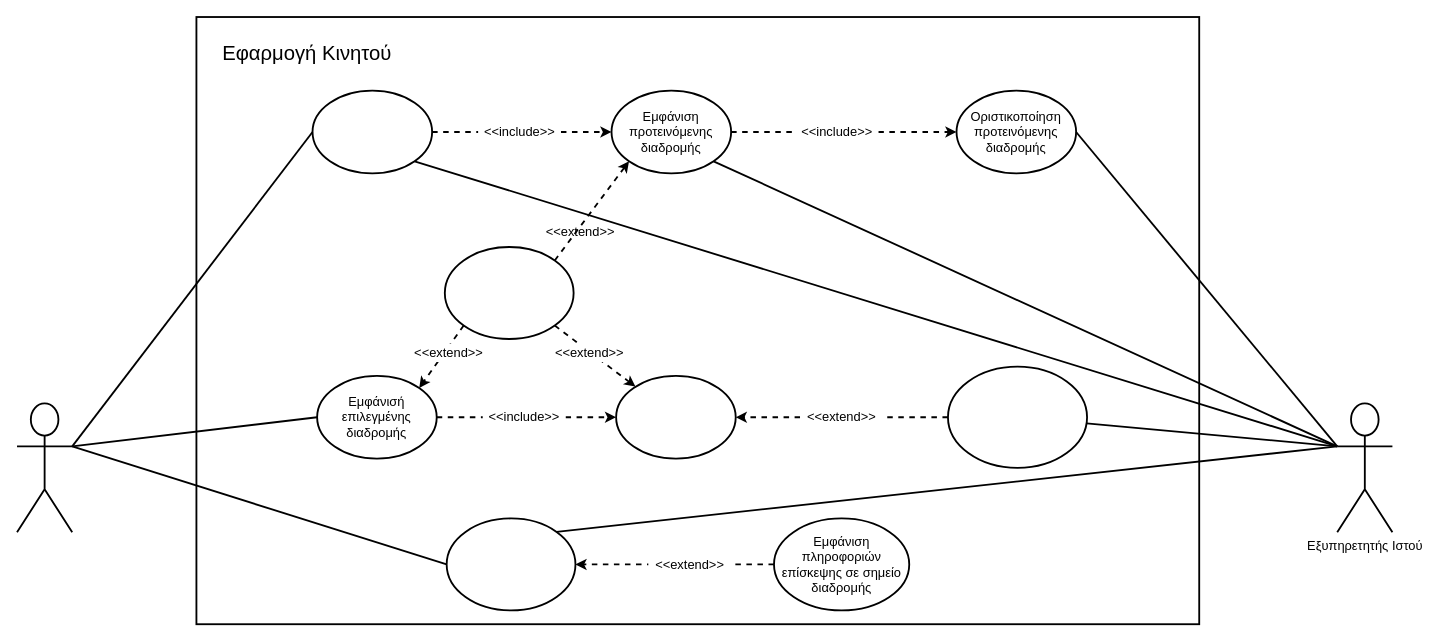
Image size: 1438x640. Some labels were removed from this diagram. Here are the shapes that lost their labels. From the top down, the box of each, then its label:
(311, 89, 433, 174): Ορισμός προτιμήσεων διαδρομής
(443, 246, 574, 339): Εμφάνιση πληροφοριών σημείου διαδρομής
(615, 374, 736, 459): Πλοήγηση
(947, 365, 1088, 468): Ολοκλήρωση επιίσκεψης σε σημείο διαδρομής
(16, 402, 73, 533): Χρήστης
(445, 517, 576, 611): Προβολή ιστορικού διαδρομών
